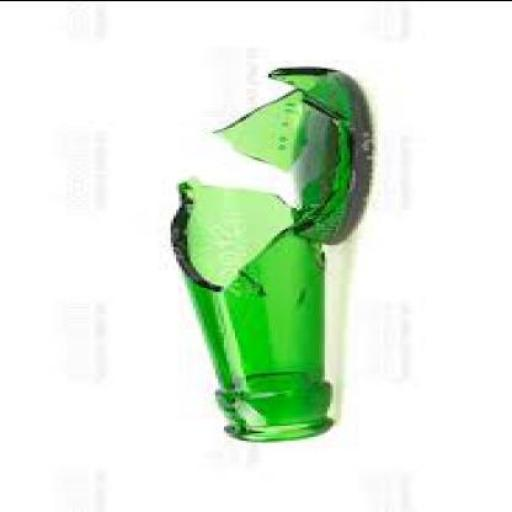glass: (168, 177, 330, 440), (210, 63, 375, 242)
